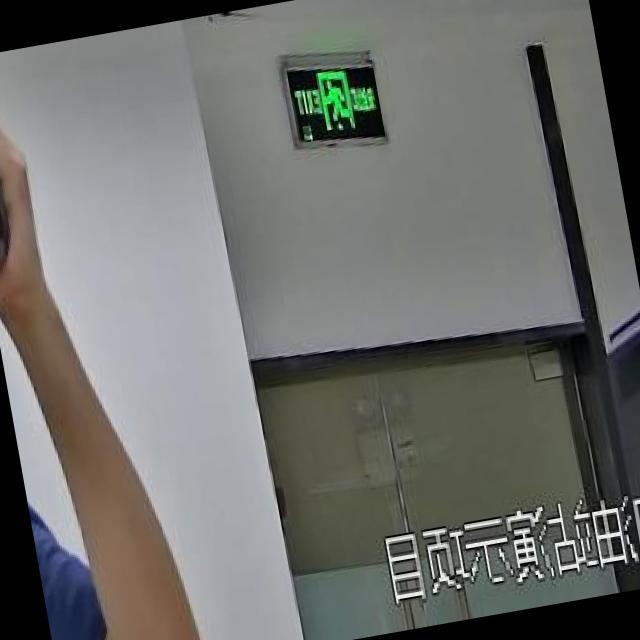Guns: (0, 51, 41, 290)
